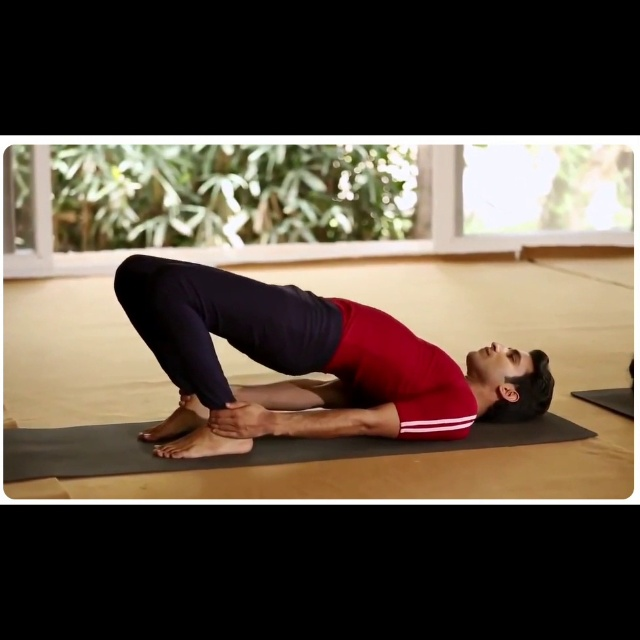Bridge_Pose: (105, 251, 557, 464)
